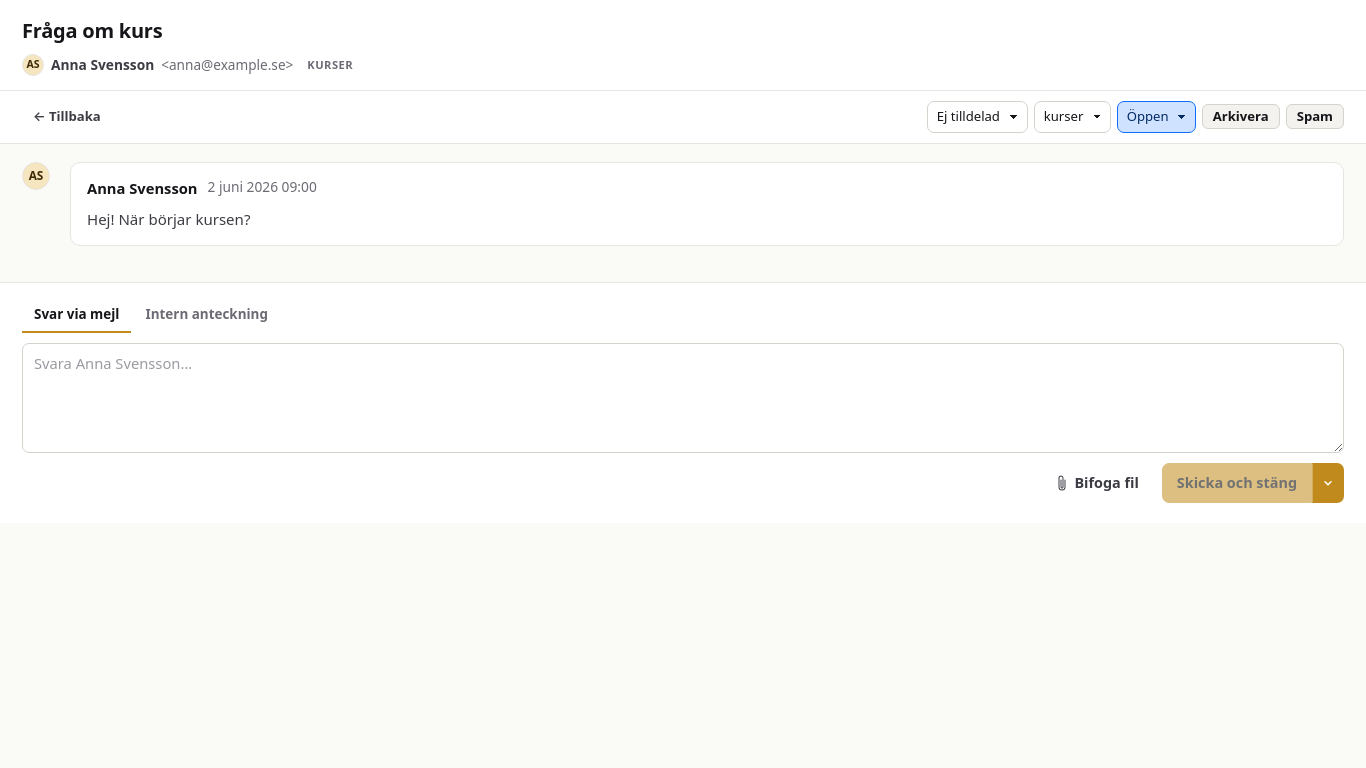
Test: MessageReader › a failed send keeps the draft and says so
The width and height of the screenshot is (1366, 768).
Type "Tack!" into the text box with test id "reply-body" at (683, 398), box [22,343,1344,453]
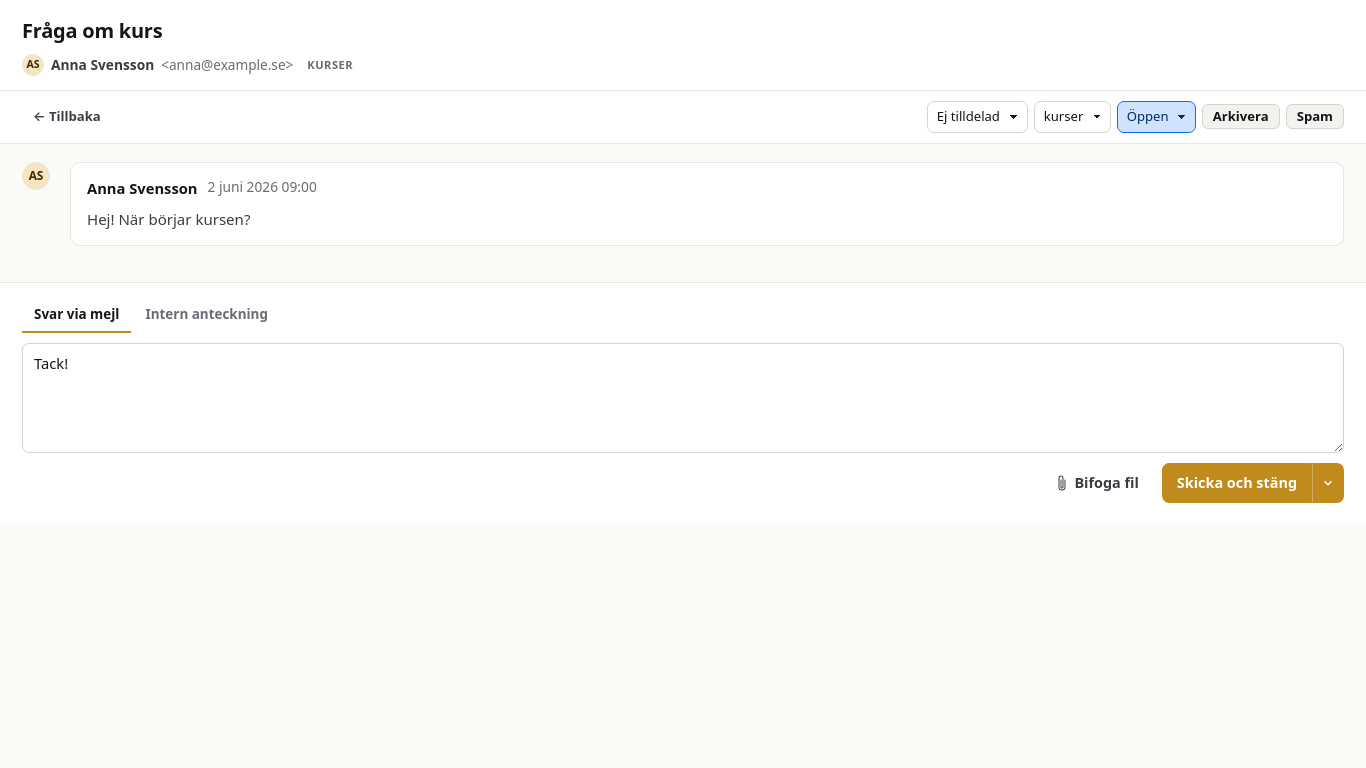
Click the button with test id "send-reply" at (1237, 483), box [1162,463,1312,503]
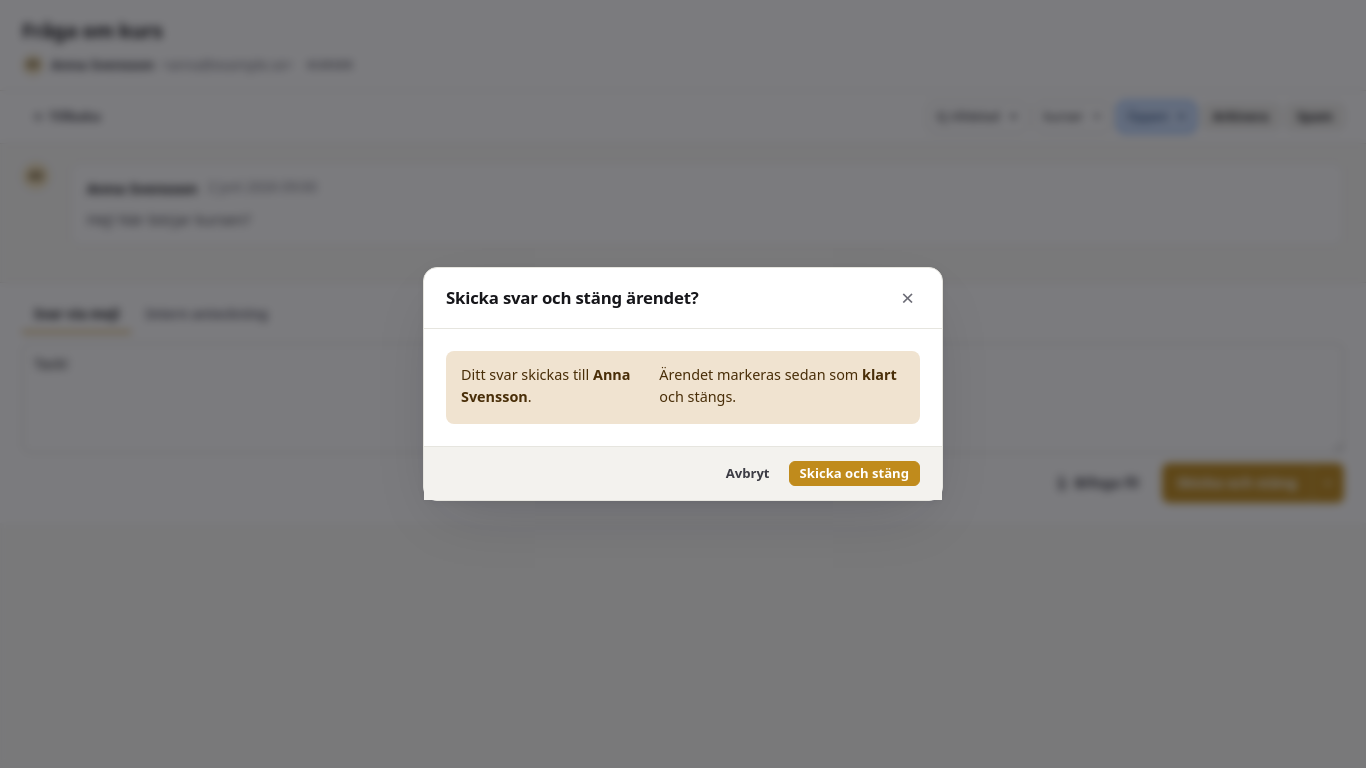
Click the button with test id "confirm-send-close" at (854, 474), box [788,461,920,486]
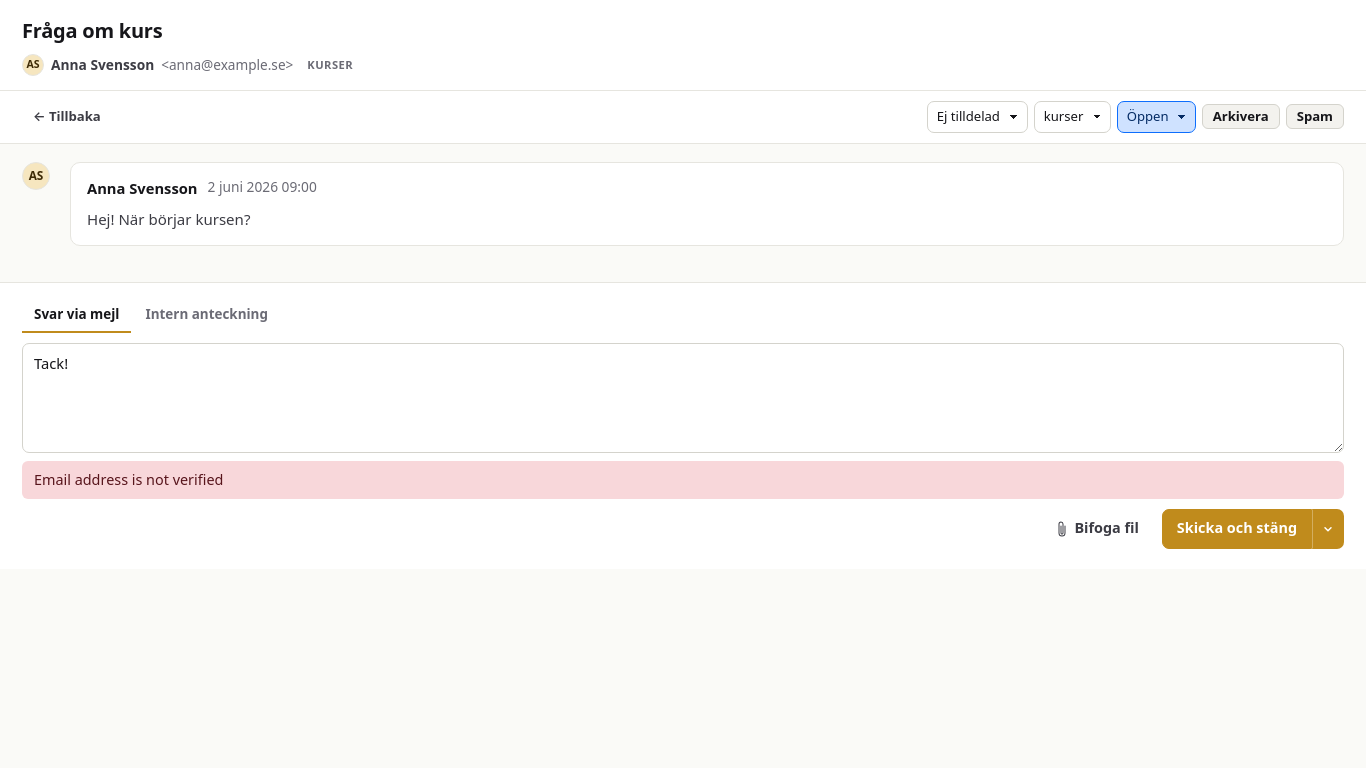
Now the message with test id "composer-error" shows "not verified", box [34,470,223,489]
